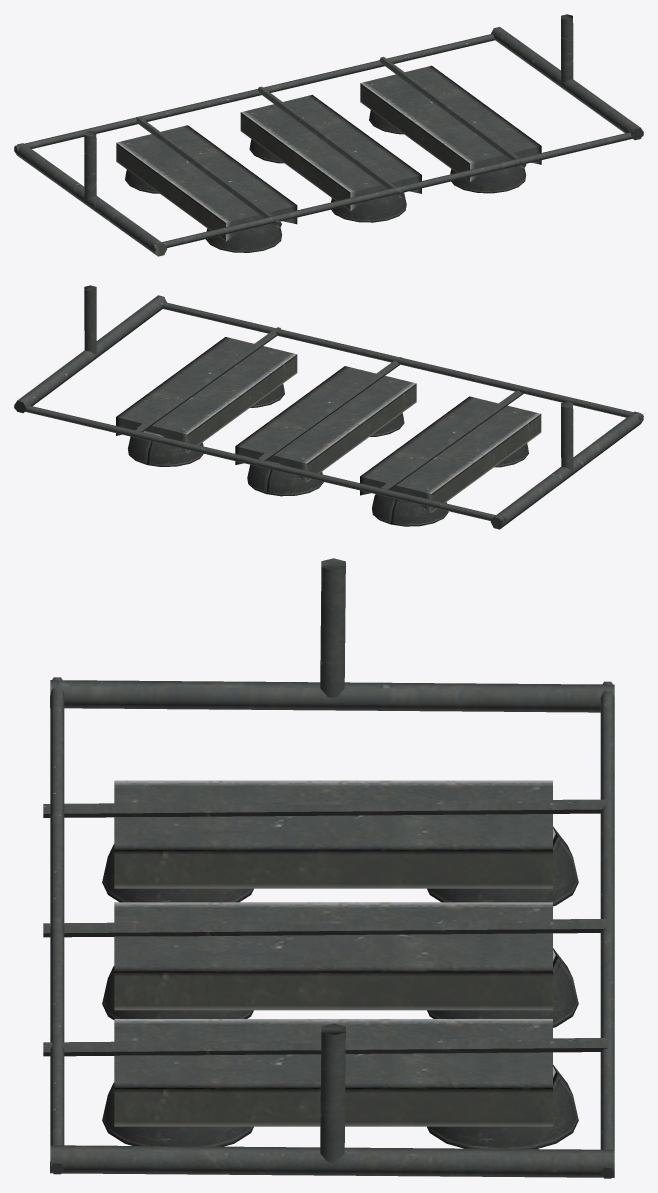
File: Ceiling_Lights_B_01.FBX
3 views of the same model, one above another, from view 1: azimuth 30°, elevation 25°; view 2: azimuth 150°, elevation 25°; view 3: azimuth 270°, elevation 25° (orthographic). The views are drawn at different scales.
Parts seen in each view (by area): view 1: Ceiling_Lights_B_01; view 2: Ceiling_Lights_B_01; view 3: Ceiling_Lights_B_01.
Boxes of the visible parts, box(x1,y1,x2,y2) form: Ceiling_Lights_B_01: box(14, 14, 643, 256); Ceiling_Lights_B_01: box(14, 285, 643, 529); Ceiling_Lights_B_01: box(43, 558, 614, 1178).
Bounding box in the file's own units: 12 × 2.43 × 6.08.
